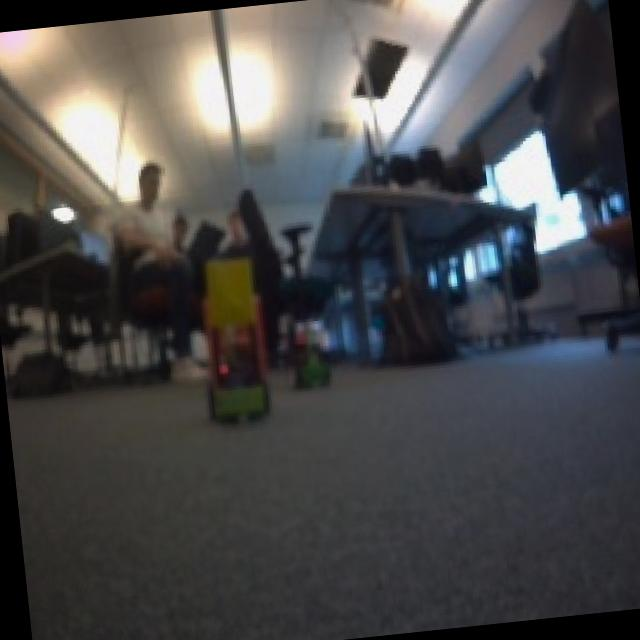robot: (202, 361, 272, 424), (284, 338, 336, 394)
target: (195, 296, 269, 391)
